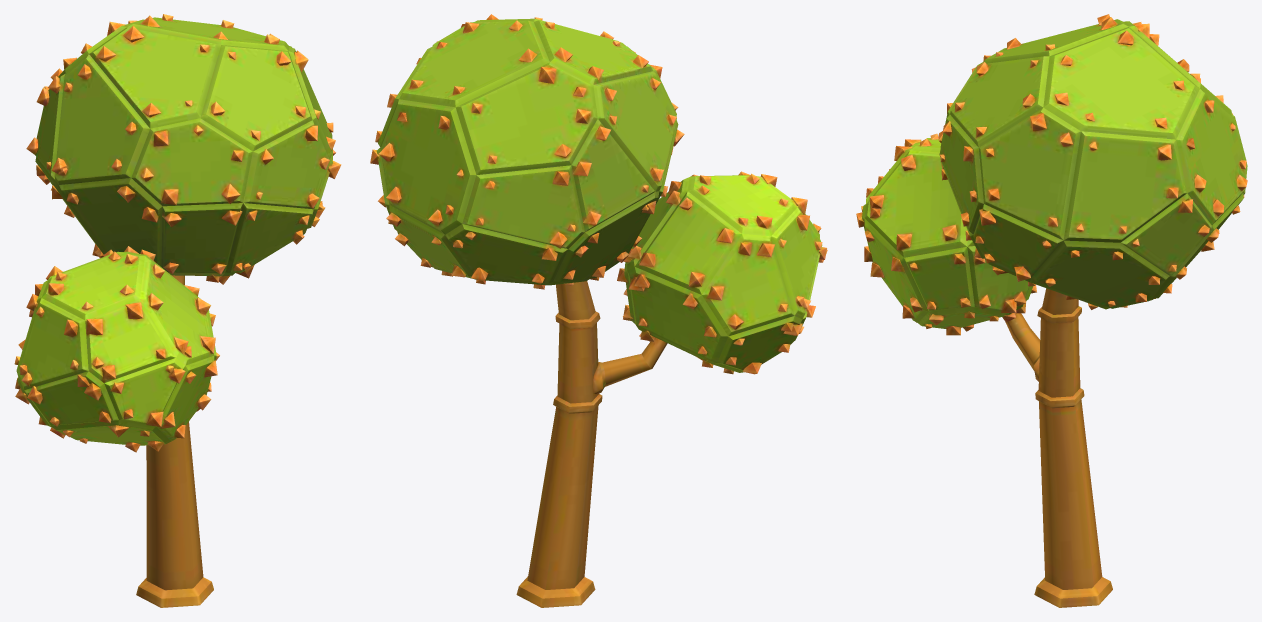
The model's file is obj_tree03_base.gltf.
The picture shows the model from 3 angles, left to right: view 1: azimuth 30°, elevation 25°; view 2: azimuth 150°, elevation 25°; view 3: azimuth 270°, elevation 25°; orthographic projection.
Parts seen in each view (by area): view 1: obj_tree03_base; view 2: obj_tree03_base; view 3: obj_tree03_base.
Part boxes in pixels (x1,y1,x2,y2): obj_tree03_base: (14,14,341,607); obj_tree03_base: (370,14,827,607); obj_tree03_base: (856,14,1247,607).
Size of what is drawn, in the model's own units: 3.81 by 5.78 by 3.64.
1 material, 1 textured.
